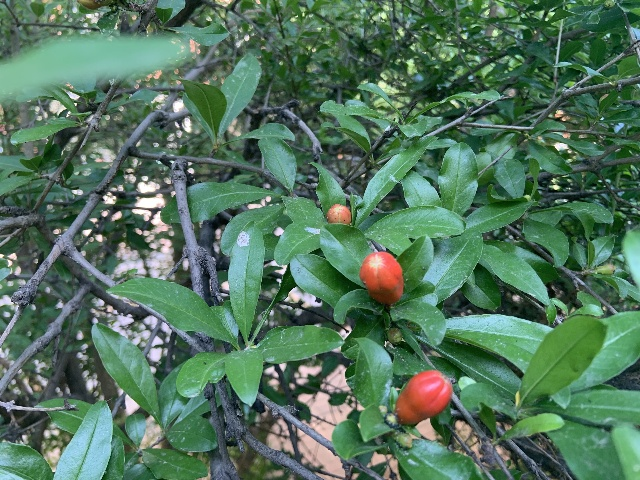bud: (394, 370, 452, 425), (359, 251, 404, 305), (326, 203, 351, 224), (386, 326, 402, 345)
